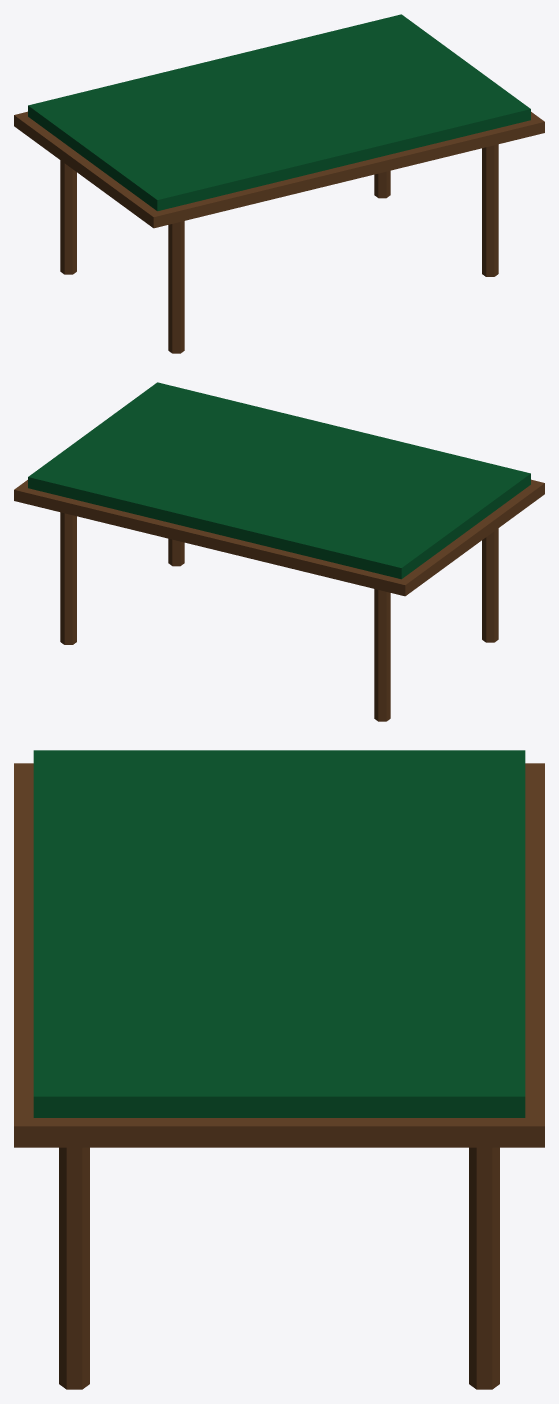
File: Prop_OR_FeltTable_02.glb
The picture shows the model from 3 angles, top to bottom: view 1: azimuth 30°, elevation 25°; view 2: azimuth 150°, elevation 25°; view 3: azimuth 270°, elevation 25°; orthographic projection. The views are drawn at different scales.
Visible parts, largest first — view 1: Prop_OR_FeltTable_02; view 2: Prop_OR_FeltTable_02; view 3: Prop_OR_FeltTable_02.
Boxes of the visible parts, x1,y1,x2,y2 form: Prop_OR_FeltTable_02: (14, 14, 544, 353); Prop_OR_FeltTable_02: (14, 382, 544, 721); Prop_OR_FeltTable_02: (14, 750, 544, 1389).
Bounding box in the file's own units: 2.2 × 0.89 × 1.36.
